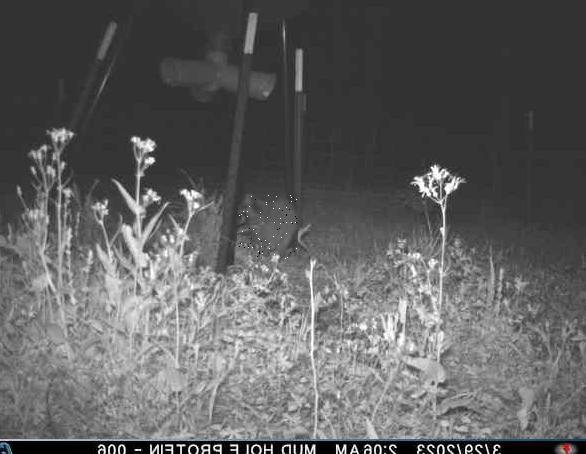Raccoon: (238, 193, 297, 260)
